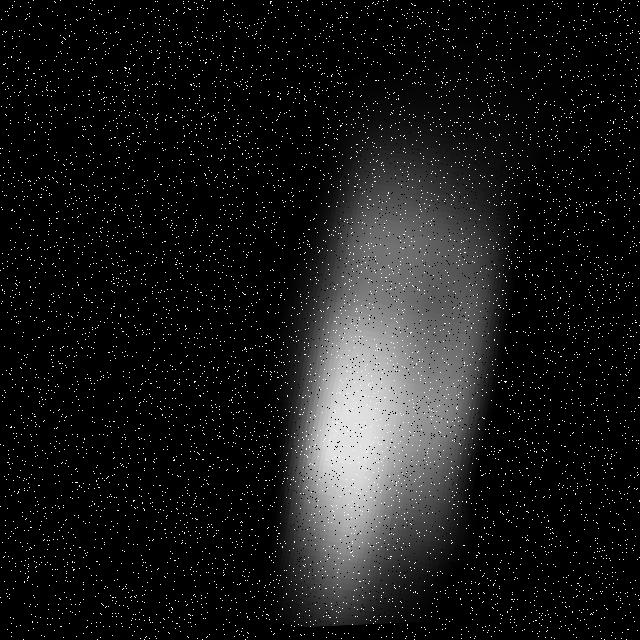person: (178, 88, 571, 635)
